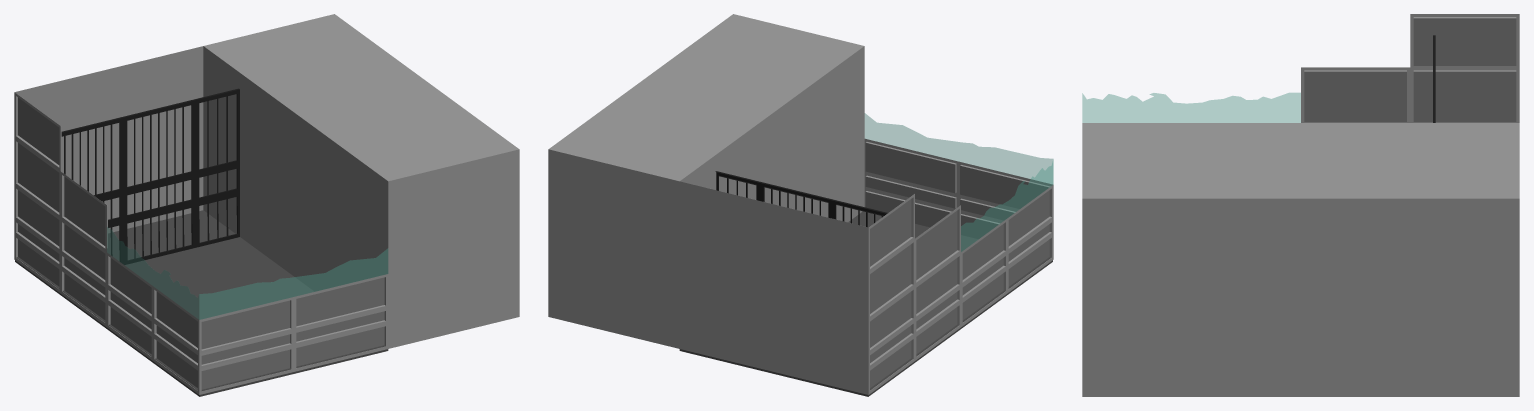
Rendered from 03 Office.FBX.
3 renders of one model, left to right at view 1: azimuth 30°, elevation 25°; view 2: azimuth 150°, elevation 25°; view 3: azimuth 270°, elevation 25°, orthographic. The views are drawn at different scales.
Visible parts, largest first — view 1: Office; view 2: Office; view 3: Office.
Boxes of the visible parts, x1,y1,x2,y2 form: Office: (14, 14, 519, 396); Office: (548, 14, 1053, 396); Office: (1082, 14, 1519, 396).
Bounding box in the file's own units: 3002 × 1520 × 3002.
